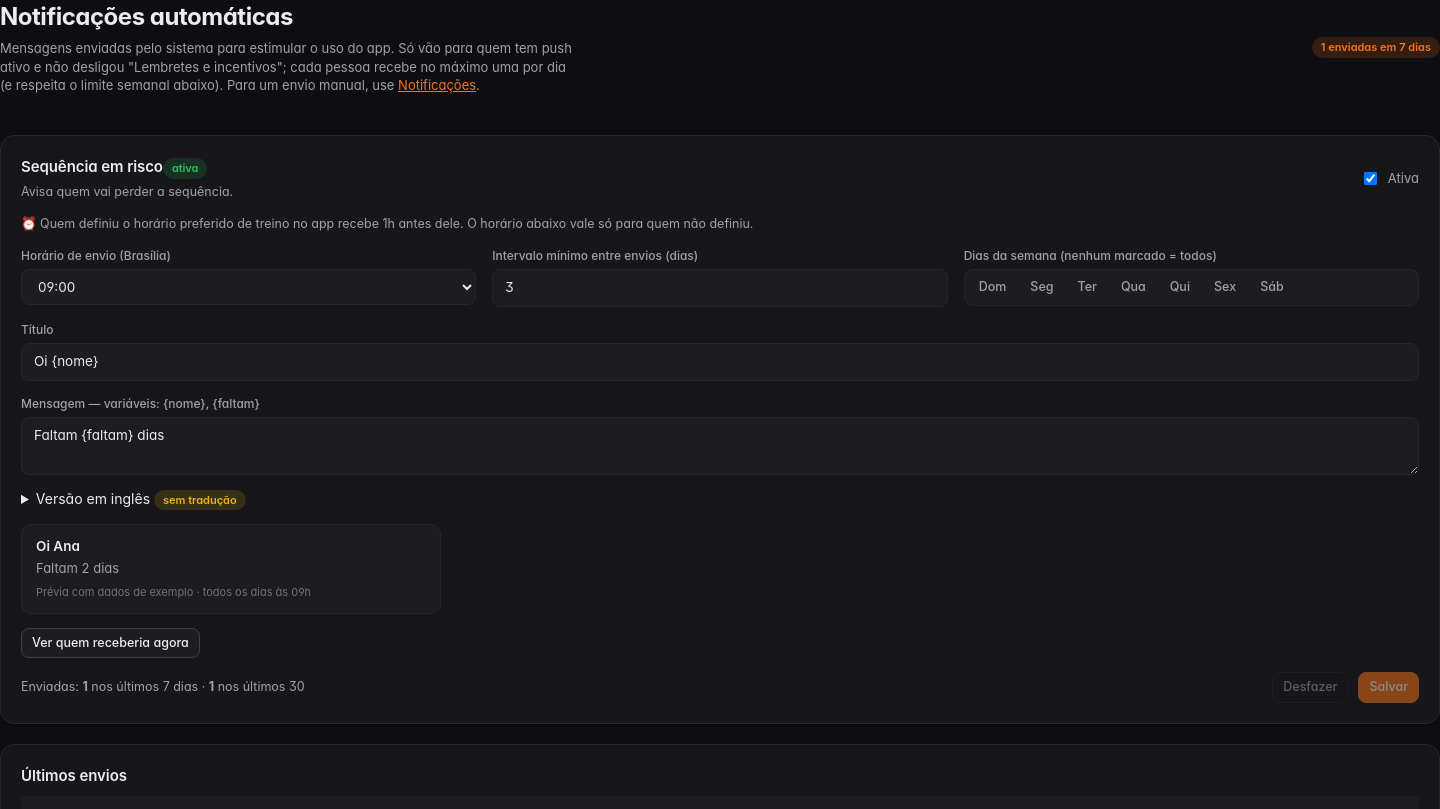
Test case: AutoNotifications › prévia de destinatários lista a mensagem personalizada
Check: the heading "Sequência em risco ativa" is shown, box [21, 156, 233, 179]
Click the button "Ver quem receberia agora": (110,643) [21, 628, 200, 658]
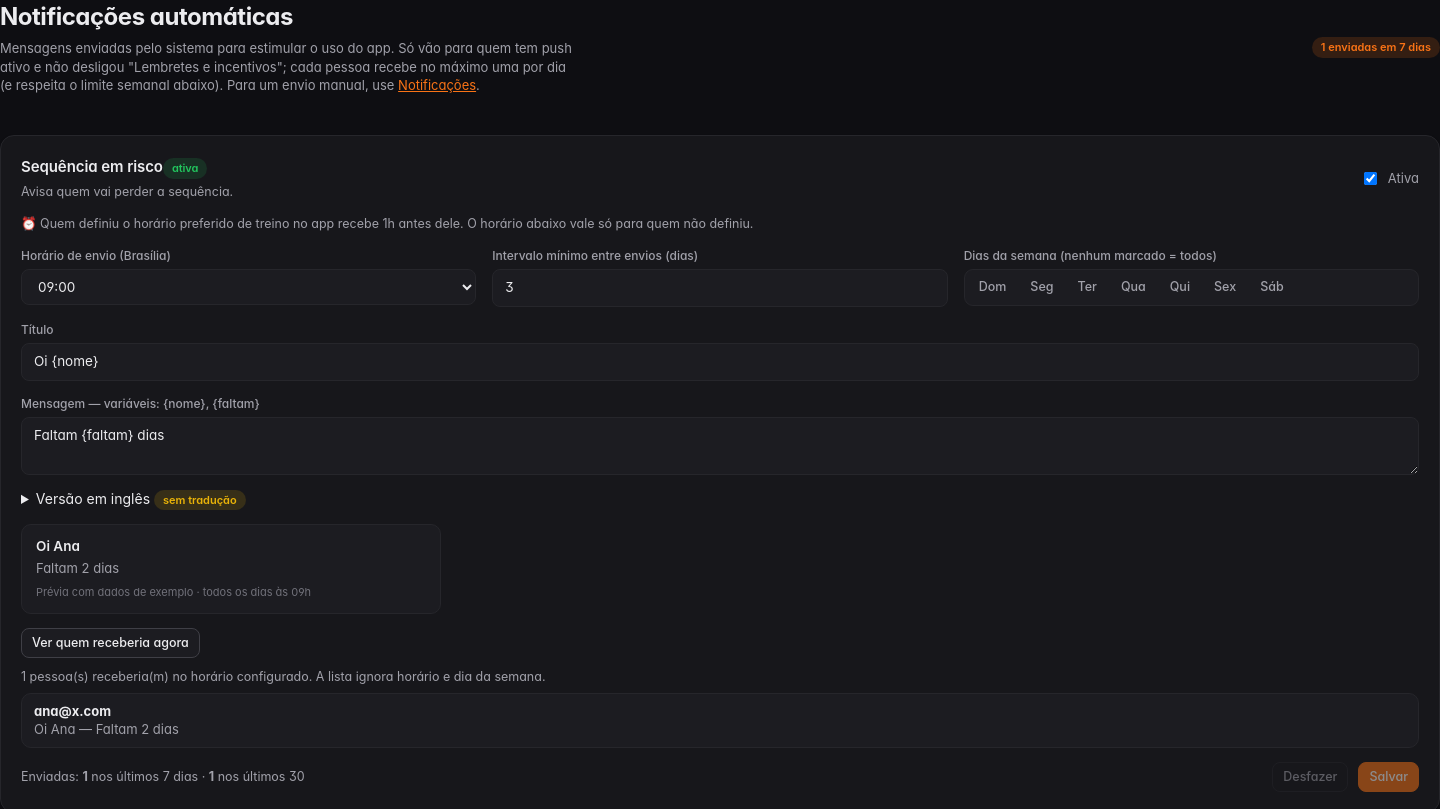
Check: the text "ana@x.com" is shown, box [34, 703, 111, 719]
Check: the text "Oi Ana — Faltam 2 dias" is shown, box [34, 721, 179, 737]
